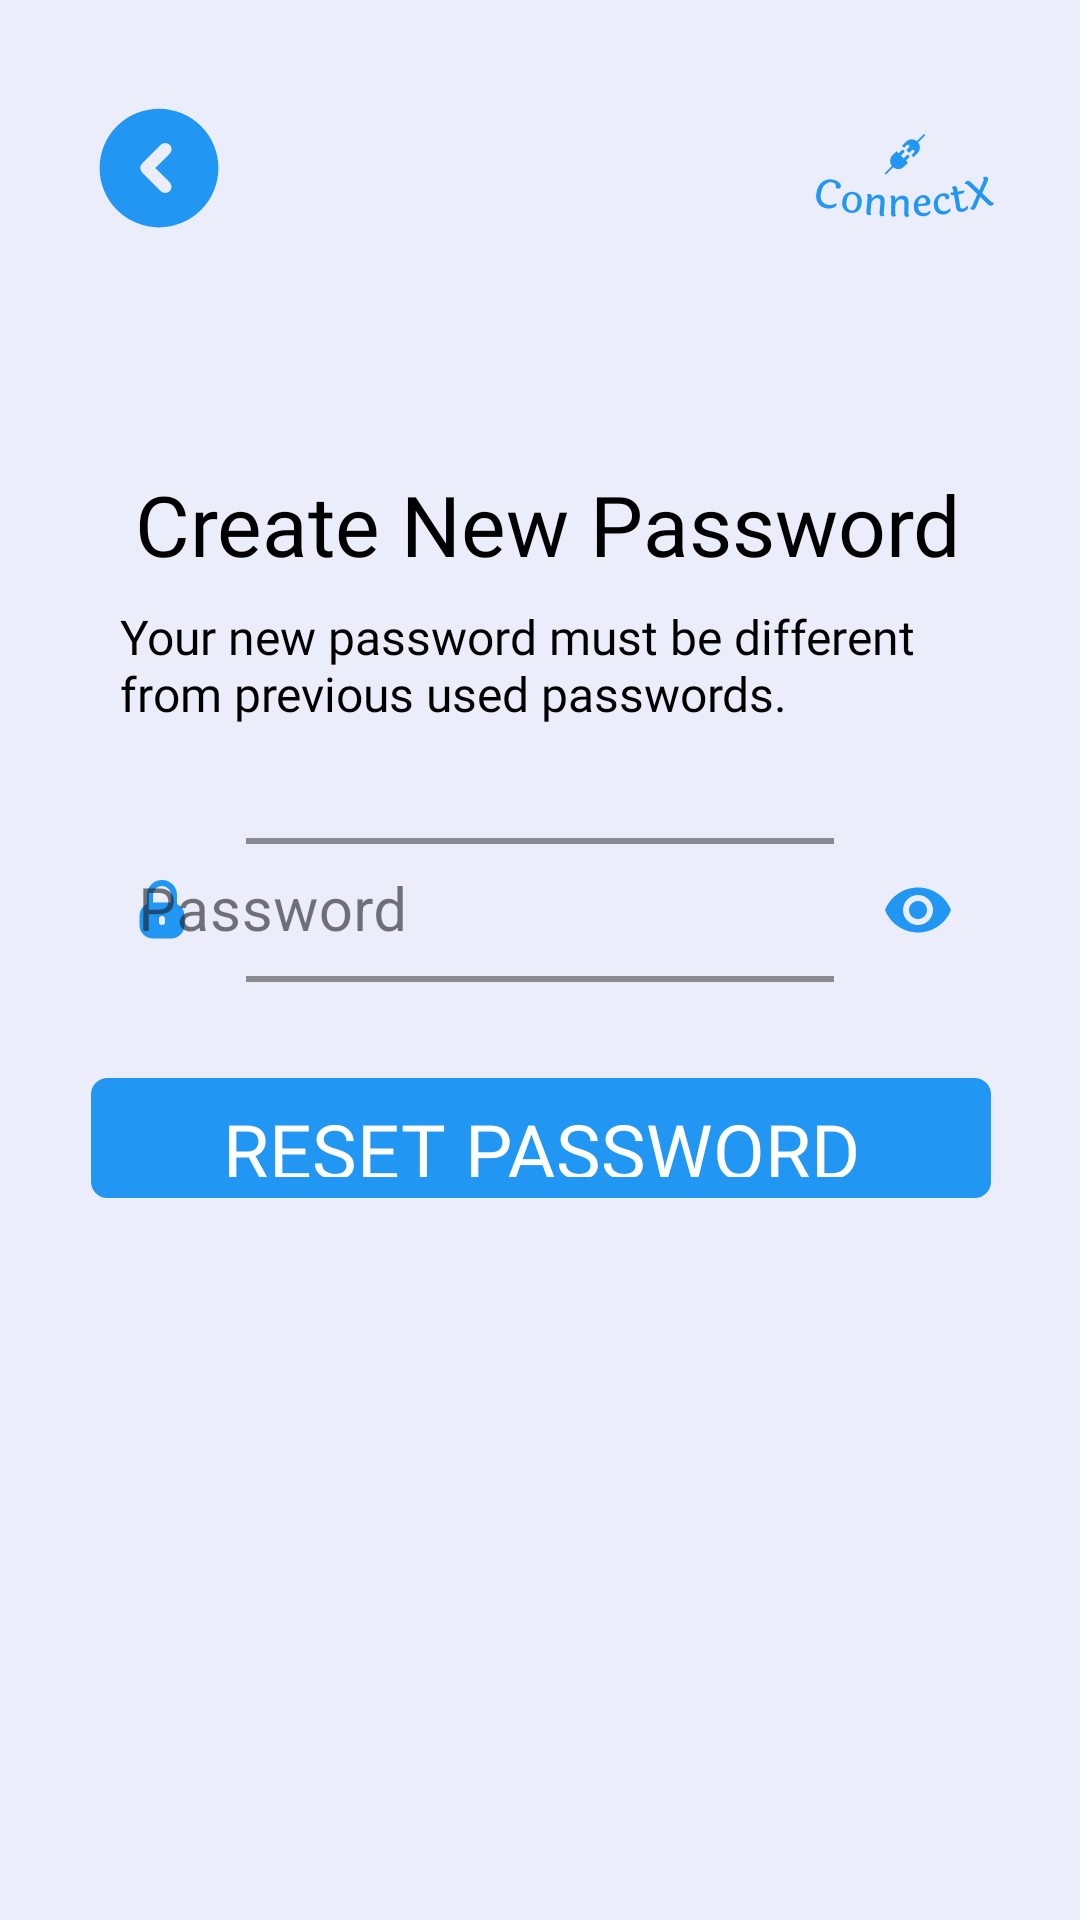

Icon bounding boxes for this 1080 x 1920 phone screenshot, format (x1, y1, x2, y2):
backbutton: (99, 108, 219, 228)
